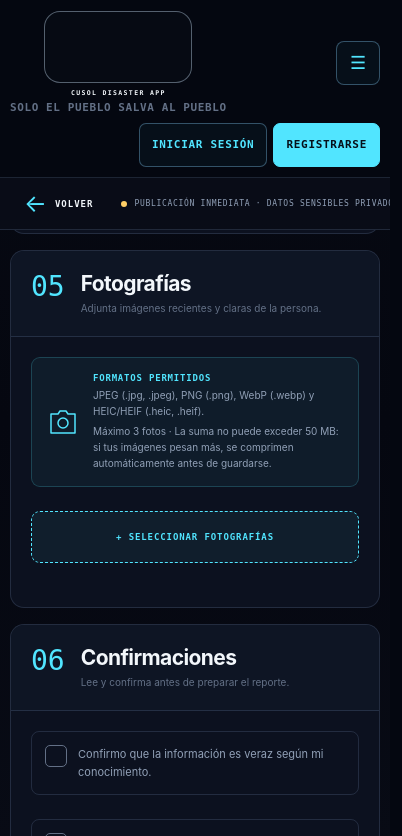
Scenario: Reporte de persona perdida › lista las fotos seleccionadas y permite retirarlas
The width and height of the screenshot is (402, 836).
(page scrolled)
Click the button with aria-label "Seleccionar una o varias fotografías".
click(195, 537)  # box [31,511,359,563]
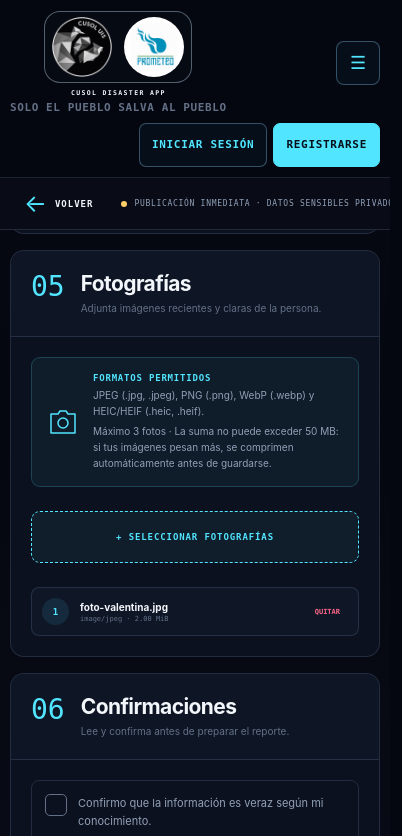
expect the text "foto-valentina.jpg" is shown: met, box [80,600,168,612]
expect the text "image/jpeg · 2.00 MiB" is shown: met, box [80,614,168,622]
Click the button with aria-label "Quitar fotografía foto-valentina.jpg".
click(327, 612)  # box [307,600,348,622]
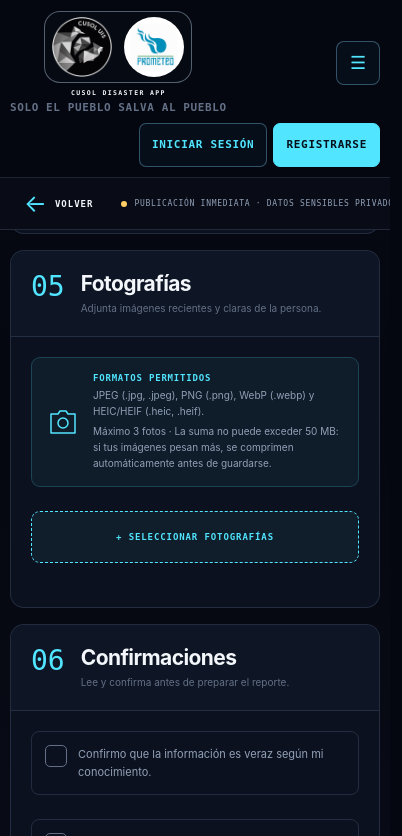
expect the text "foto-valentina.jpg" is gone: met
